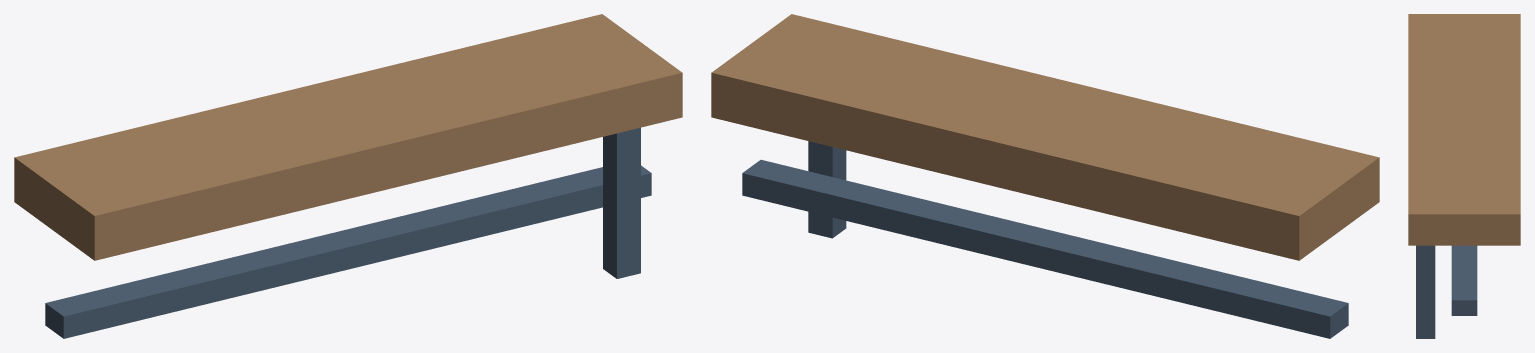
Rendered from team_bench.glb.
3 renders of one model, left to right at view 1: azimuth 30°, elevation 25°; view 2: azimuth 150°, elevation 25°; view 3: azimuth 270°, elevation 25°, orthographic. The views are drawn at different scales.
Parts seen in each view (by area): view 1: Bench_Seat, Bench_Brace, Bench_Leg; view 2: Bench_Seat, Bench_Brace, Bench_Leg; view 3: Bench_Seat, Bench_Brace, Bench_Leg.
Part boxes in pixels (x1,y1,x2,y2): Bench_Seat: (14, 14, 682, 260); Bench_Brace: (45, 165, 651, 338); Bench_Leg: (603, 127, 640, 278); Bench_Seat: (711, 14, 1379, 260); Bench_Brace: (742, 159, 1348, 338); Bench_Leg: (808, 141, 846, 238); Bench_Seat: (1408, 14, 1520, 245); Bench_Brace: (1451, 245, 1477, 315); Bench_Leg: (1416, 245, 1435, 338).
Size of the model in its own units: 2.2 by 0.7 by 0.52.
